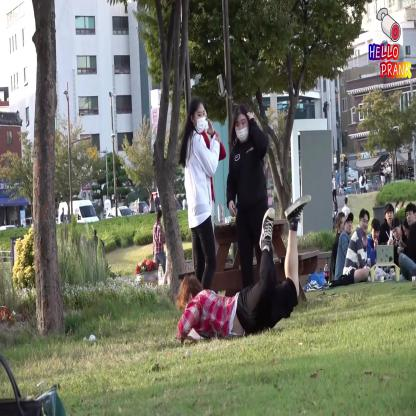Fall_Down: (177, 194, 312, 342)
